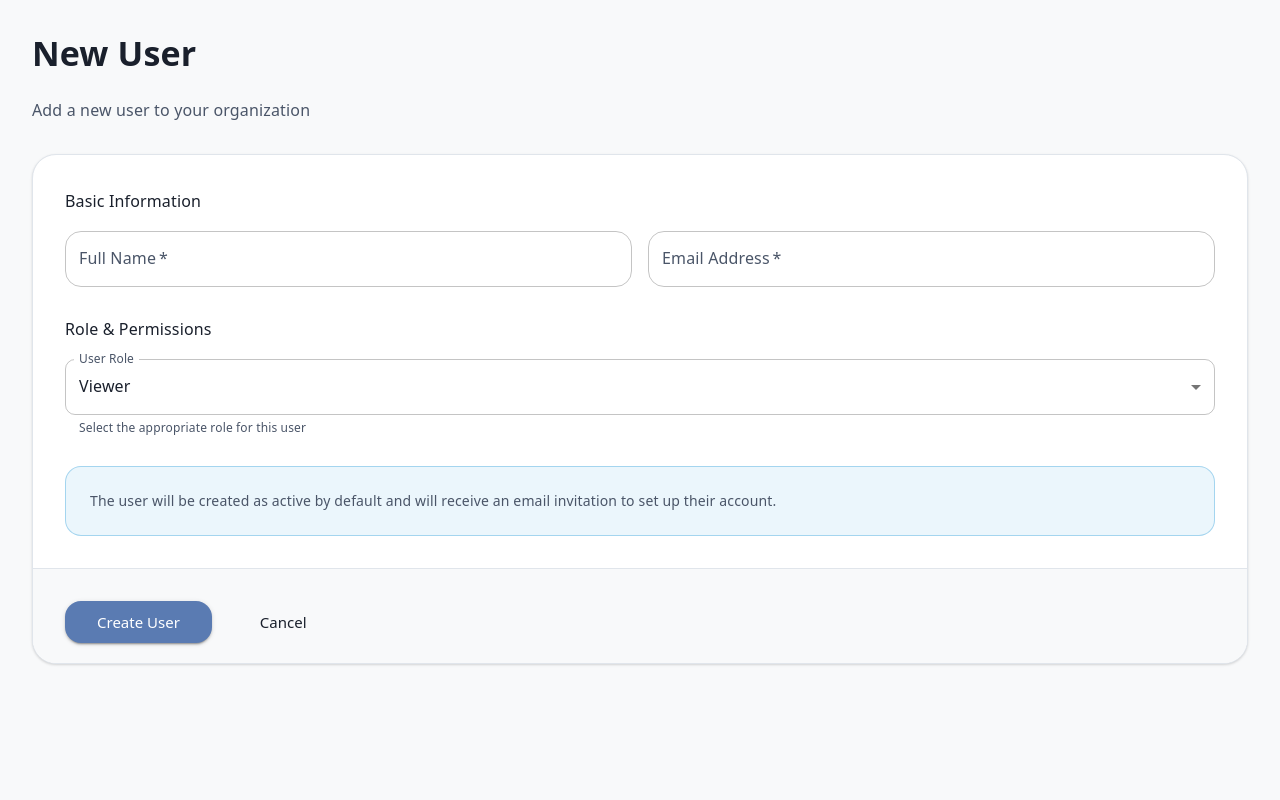
Test: UserNewFlow - Create User Integration › should disable submit button while creating
Type "Test User" into the field labelled "Full Name *" at (348, 259), box [65,231,632,287]
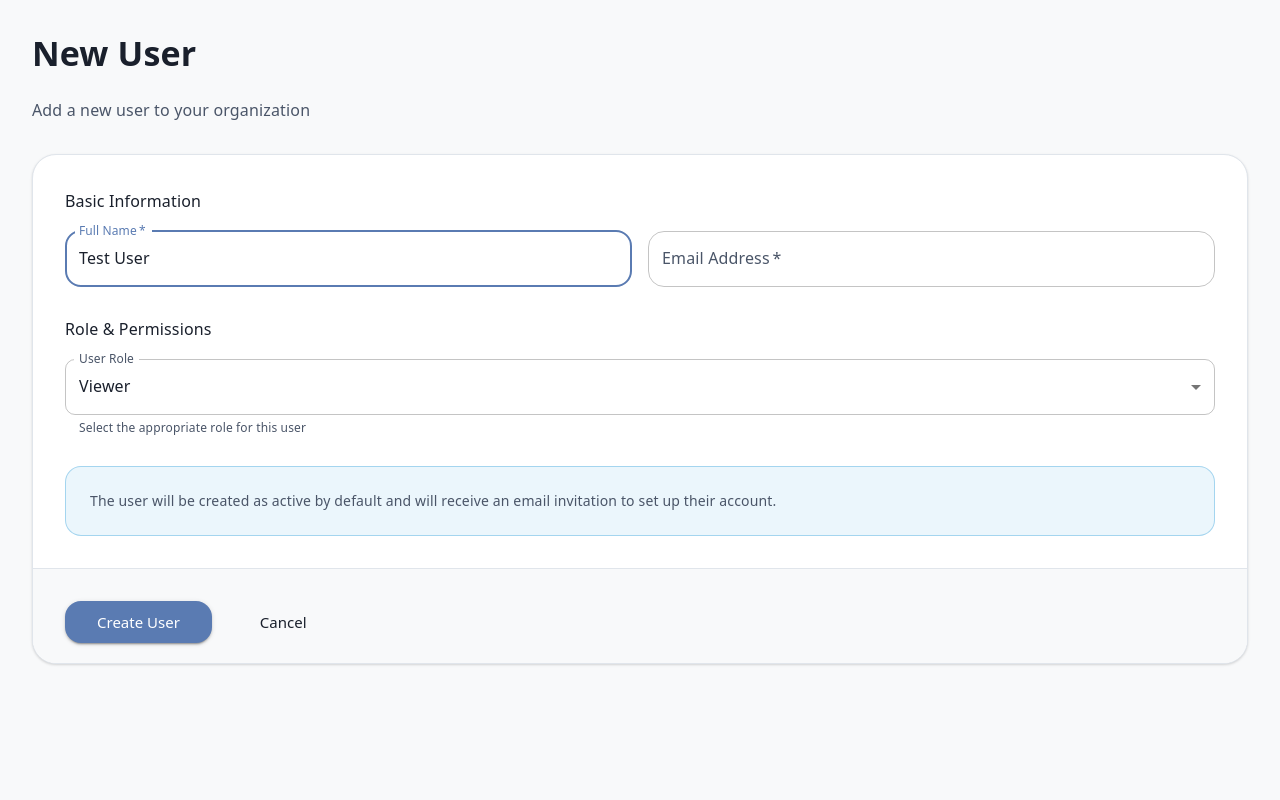
Type "test@example.com" into the field labelled "Email Address *" at (932, 259), box [648,231,1215,287]
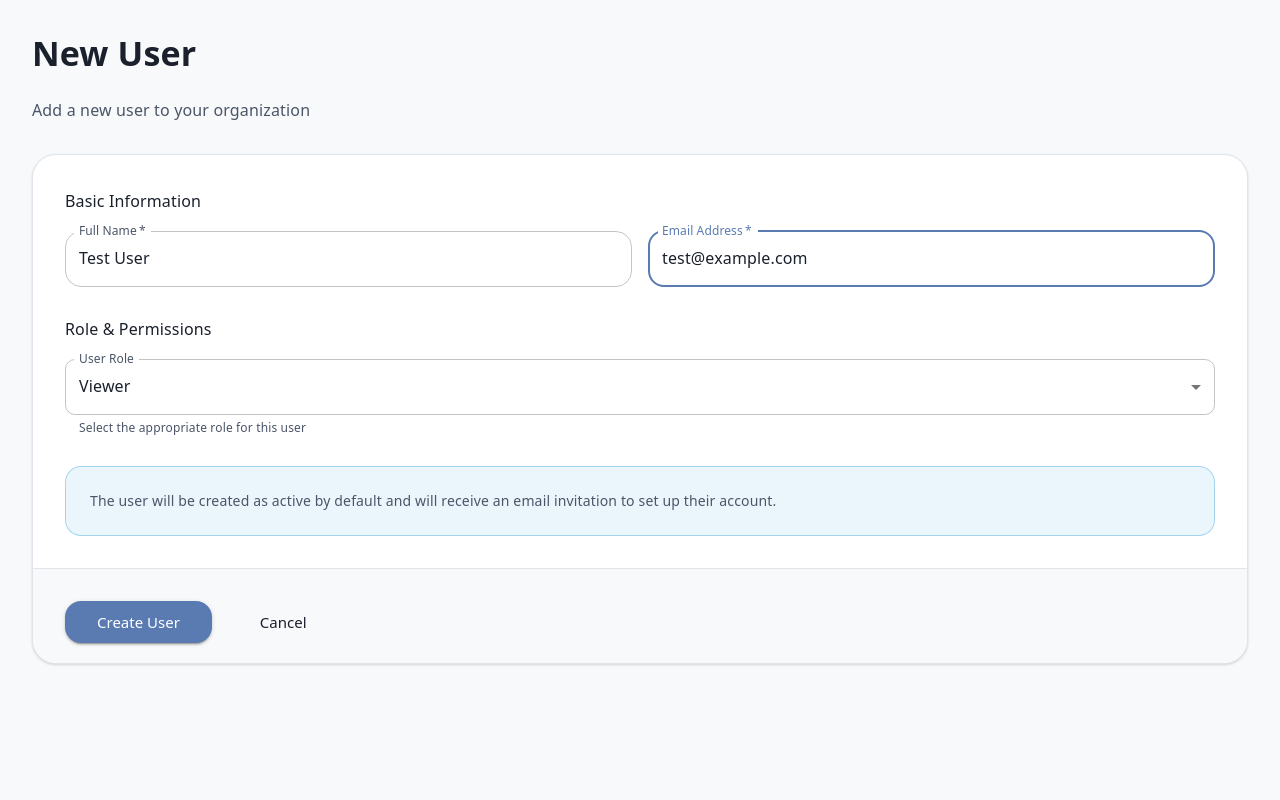
Click the button "Create User" at (138, 622), box [65,601,212,643]
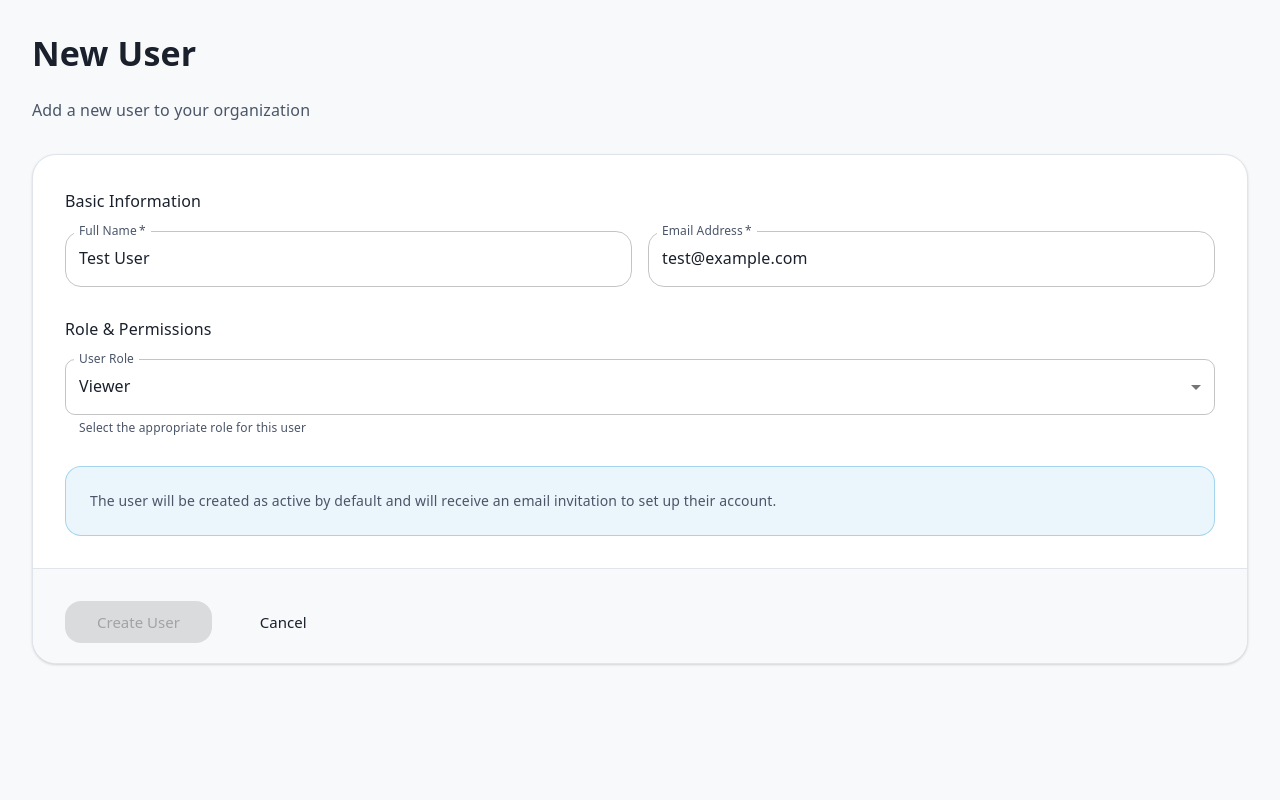
Result: the button "Create User" is disabled at [65,601,212,643]
